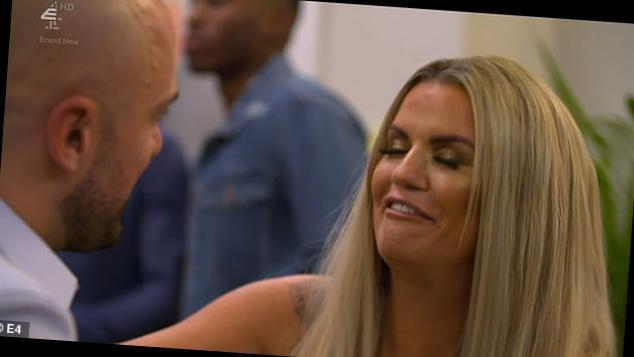Drunk: (381, 76, 482, 259)
